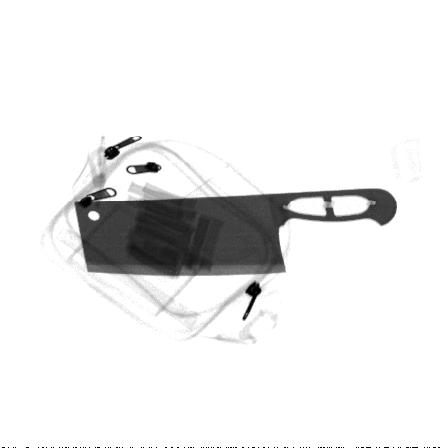Knife: (73, 187, 400, 277)
